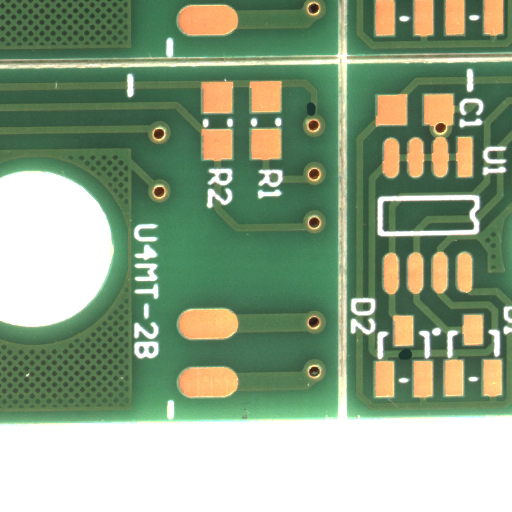Mouse_bite: (404, 353, 417, 366), (310, 109, 318, 124)
